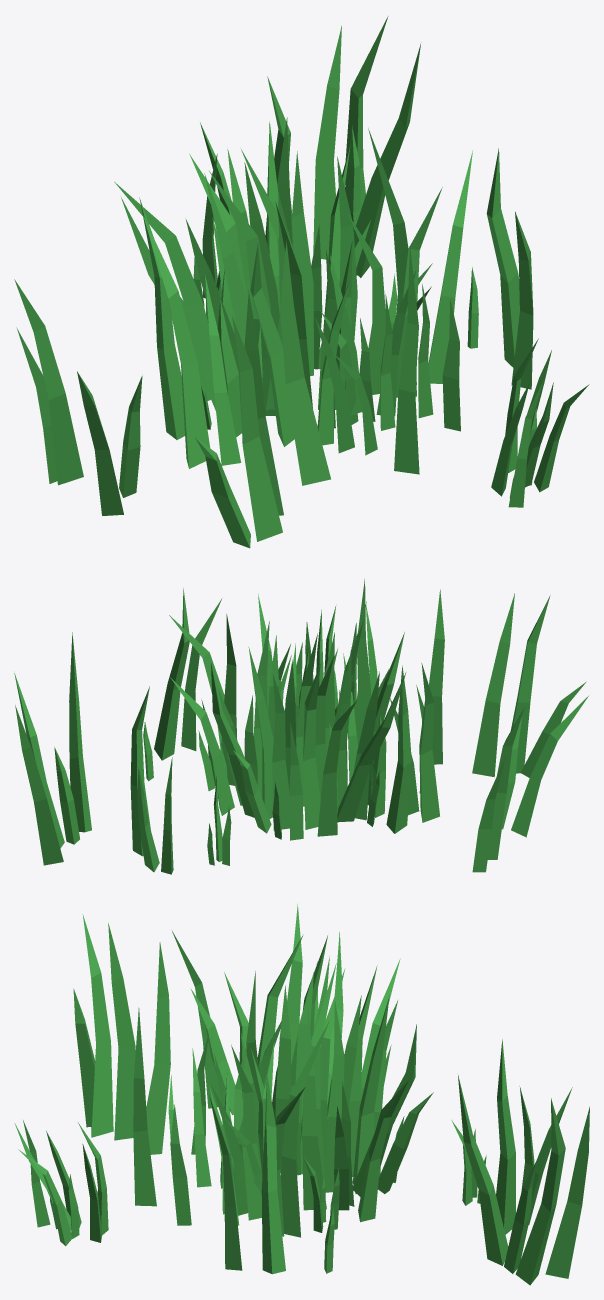
Rendered from co_xanh.glb.
3 views of the same model, one above another, from view 1: azimuth 30°, elevation 25°; view 2: azimuth 150°, elevation 25°; view 3: azimuth 270°, elevation 25° (orthographic). The views are drawn at different scales.
Parts seen in each view (by area): view 1: group1794255474; view 2: group1794255474; view 3: group1794255474.
Part boxes in pixels (x1,y1,x2,y2): group1794255474: [14, 16, 589, 548]; group1794255474: [14, 579, 588, 874]; group1794255474: [14, 904, 589, 1285].
Bounding box in the file's own units: 0.583 × 0.2873 × 0.6368.
